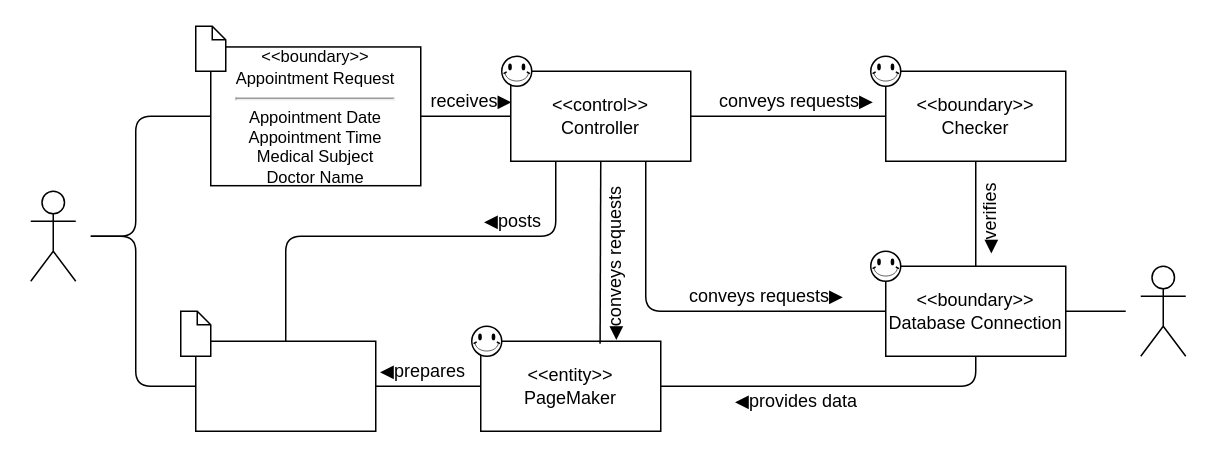
This 1229x458 diagram has some shape labels left out. Here are the shapes that lost their labels. From the top down, the centre of each, then its label:
(x=52, y=235): Patient
(x=1162, y=310): DataBase
(x=285, y=385): <<boundary>> Interface Page
